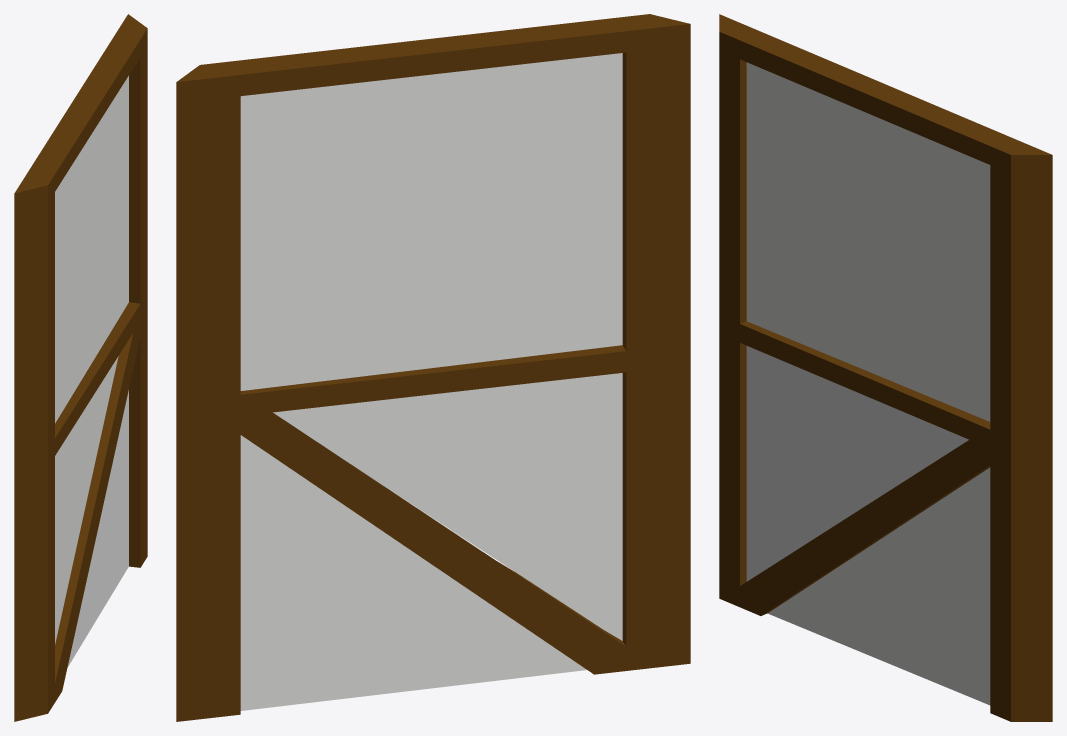
The picture shows the model from 3 angles, left to right: view 1: azimuth 30°, elevation 25°; view 2: azimuth 150°, elevation 25°; view 3: azimuth 270°, elevation 25°; orthographic projection. The views are drawn at different scales.
Bounding box in the file's own units: 128 × 240 × 128.
1 material, 1 textured.
